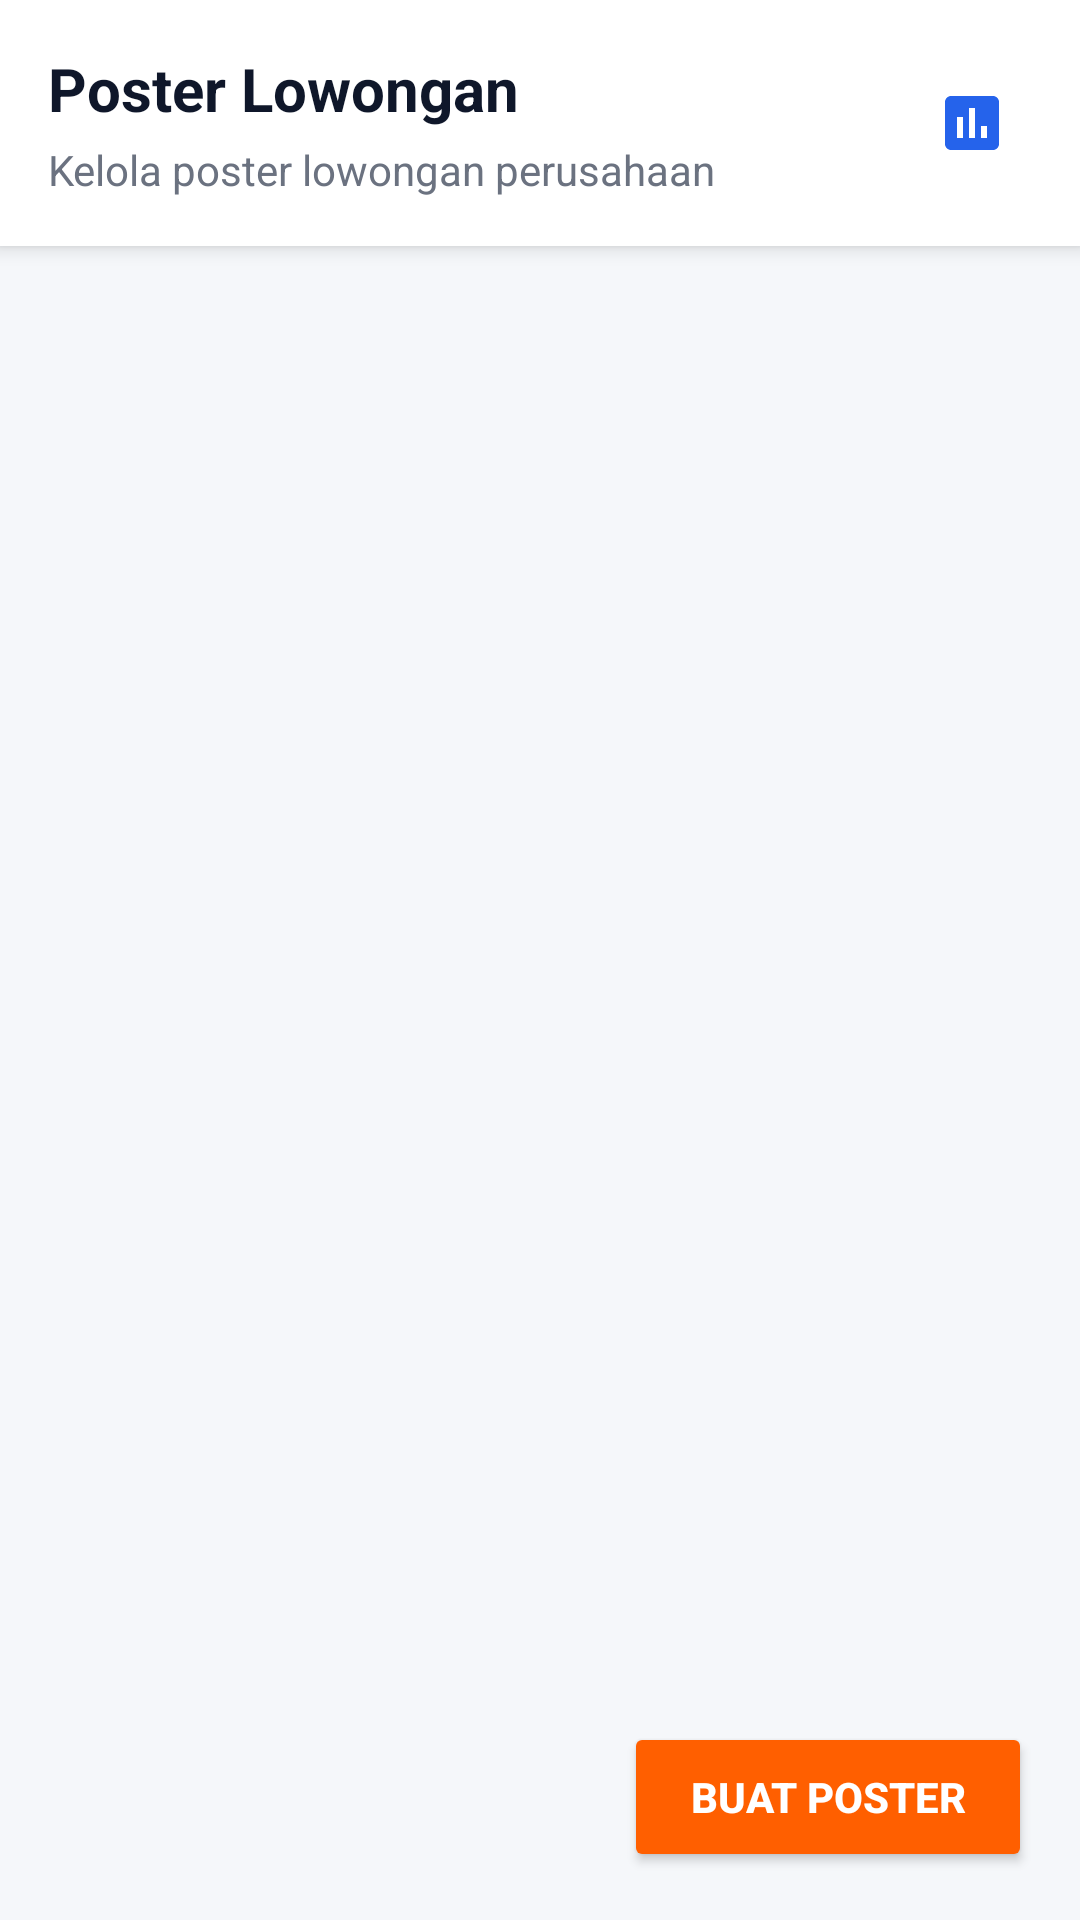

Icons on this 1080px×1920px Android screen, each with the point to tap as point (x, y):
analytics: point (972, 123)
